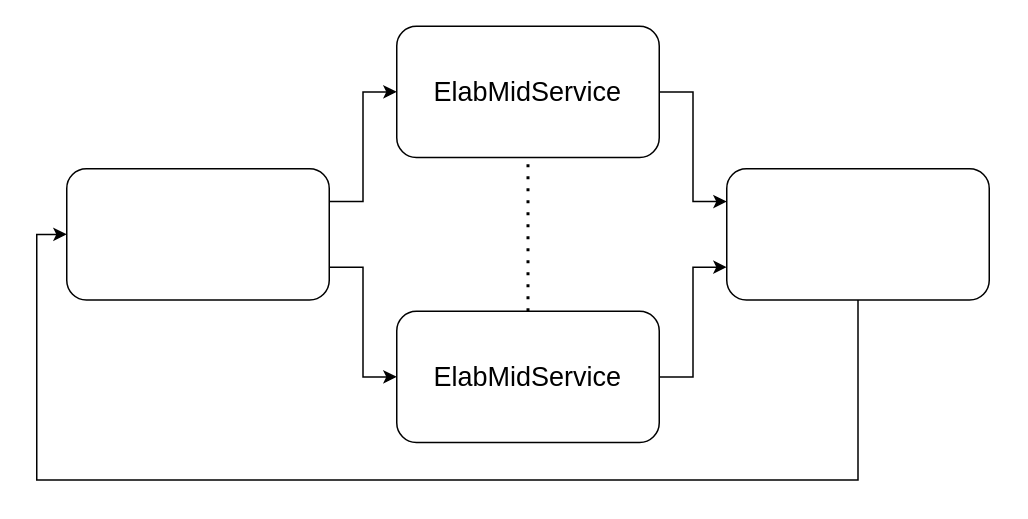
The diagram is 1028 pixels wide and 519 high, and some of its shapes have lost their labels. The shapes that lost their labels are listed below. From the top down, each one's centre as x and y in pixels, then its label:
point 197,233: QueueHeadService
point 857,233: SynthOutService
